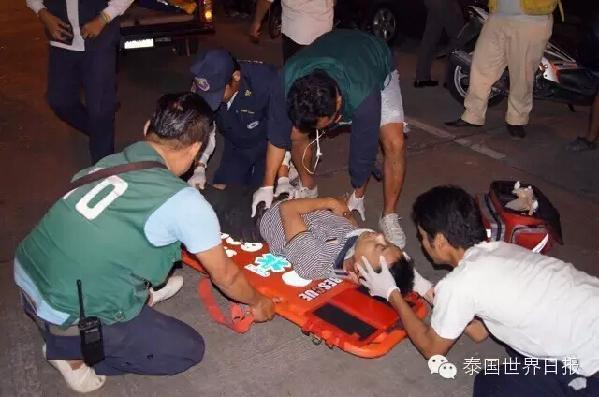Fall-Detected: (238, 166, 428, 352)
